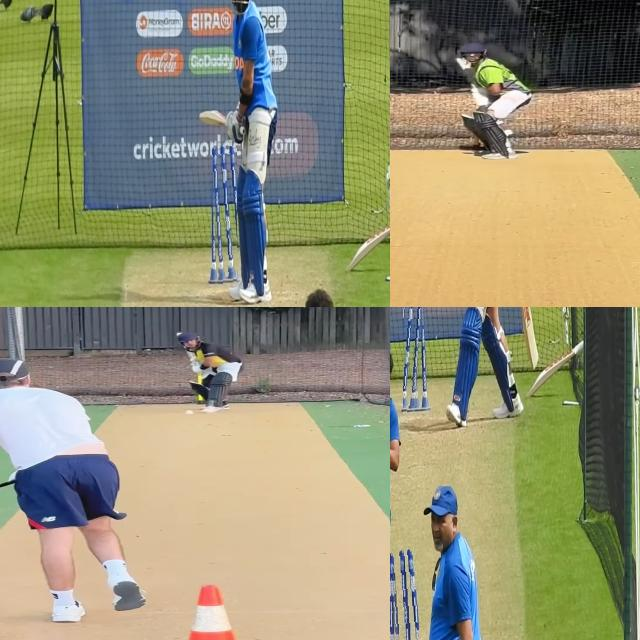Cricket ball: (184, 408, 196, 416)
Stumps: (209, 146, 237, 286), (390, 548, 419, 640), (403, 307, 427, 415)
